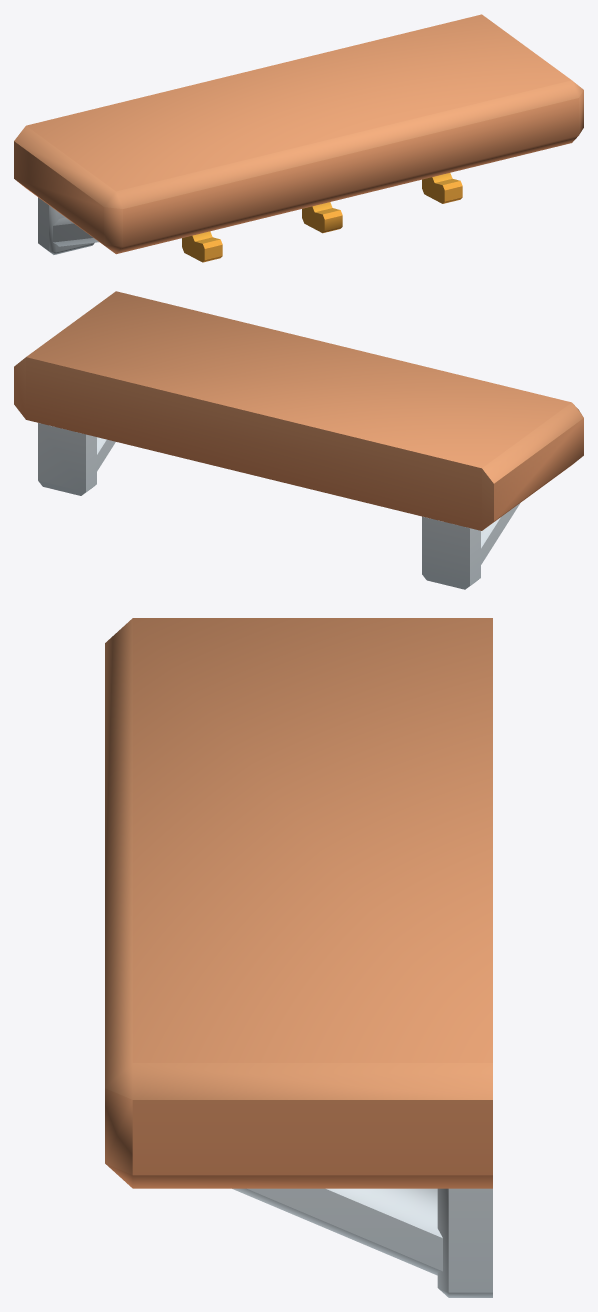
File: Wall Shelf Kitchen H.glb
3 views of the same model, one above another, from view 1: azimuth 30°, elevation 25°; view 2: azimuth 150°, elevation 25°; view 3: azimuth 270°, elevation 25° (orthographic). The views are drawn at different scales.
Parts seen in each view (by area): view 1: wall_shelf_kitchen_hooks; view 2: wall_shelf_kitchen_hooks; view 3: wall_shelf_kitchen_hooks.
Part boxes in pixels (bbox=[...]): wall_shelf_kitchen_hooks: bbox=[14, 14, 583, 262]; wall_shelf_kitchen_hooks: bbox=[14, 291, 583, 589]; wall_shelf_kitchen_hooks: bbox=[105, 618, 492, 1297].
Bounding box in the file's own units: 2 × 0.5 × 0.7.
Materials: 1 (1 with a texture image).
